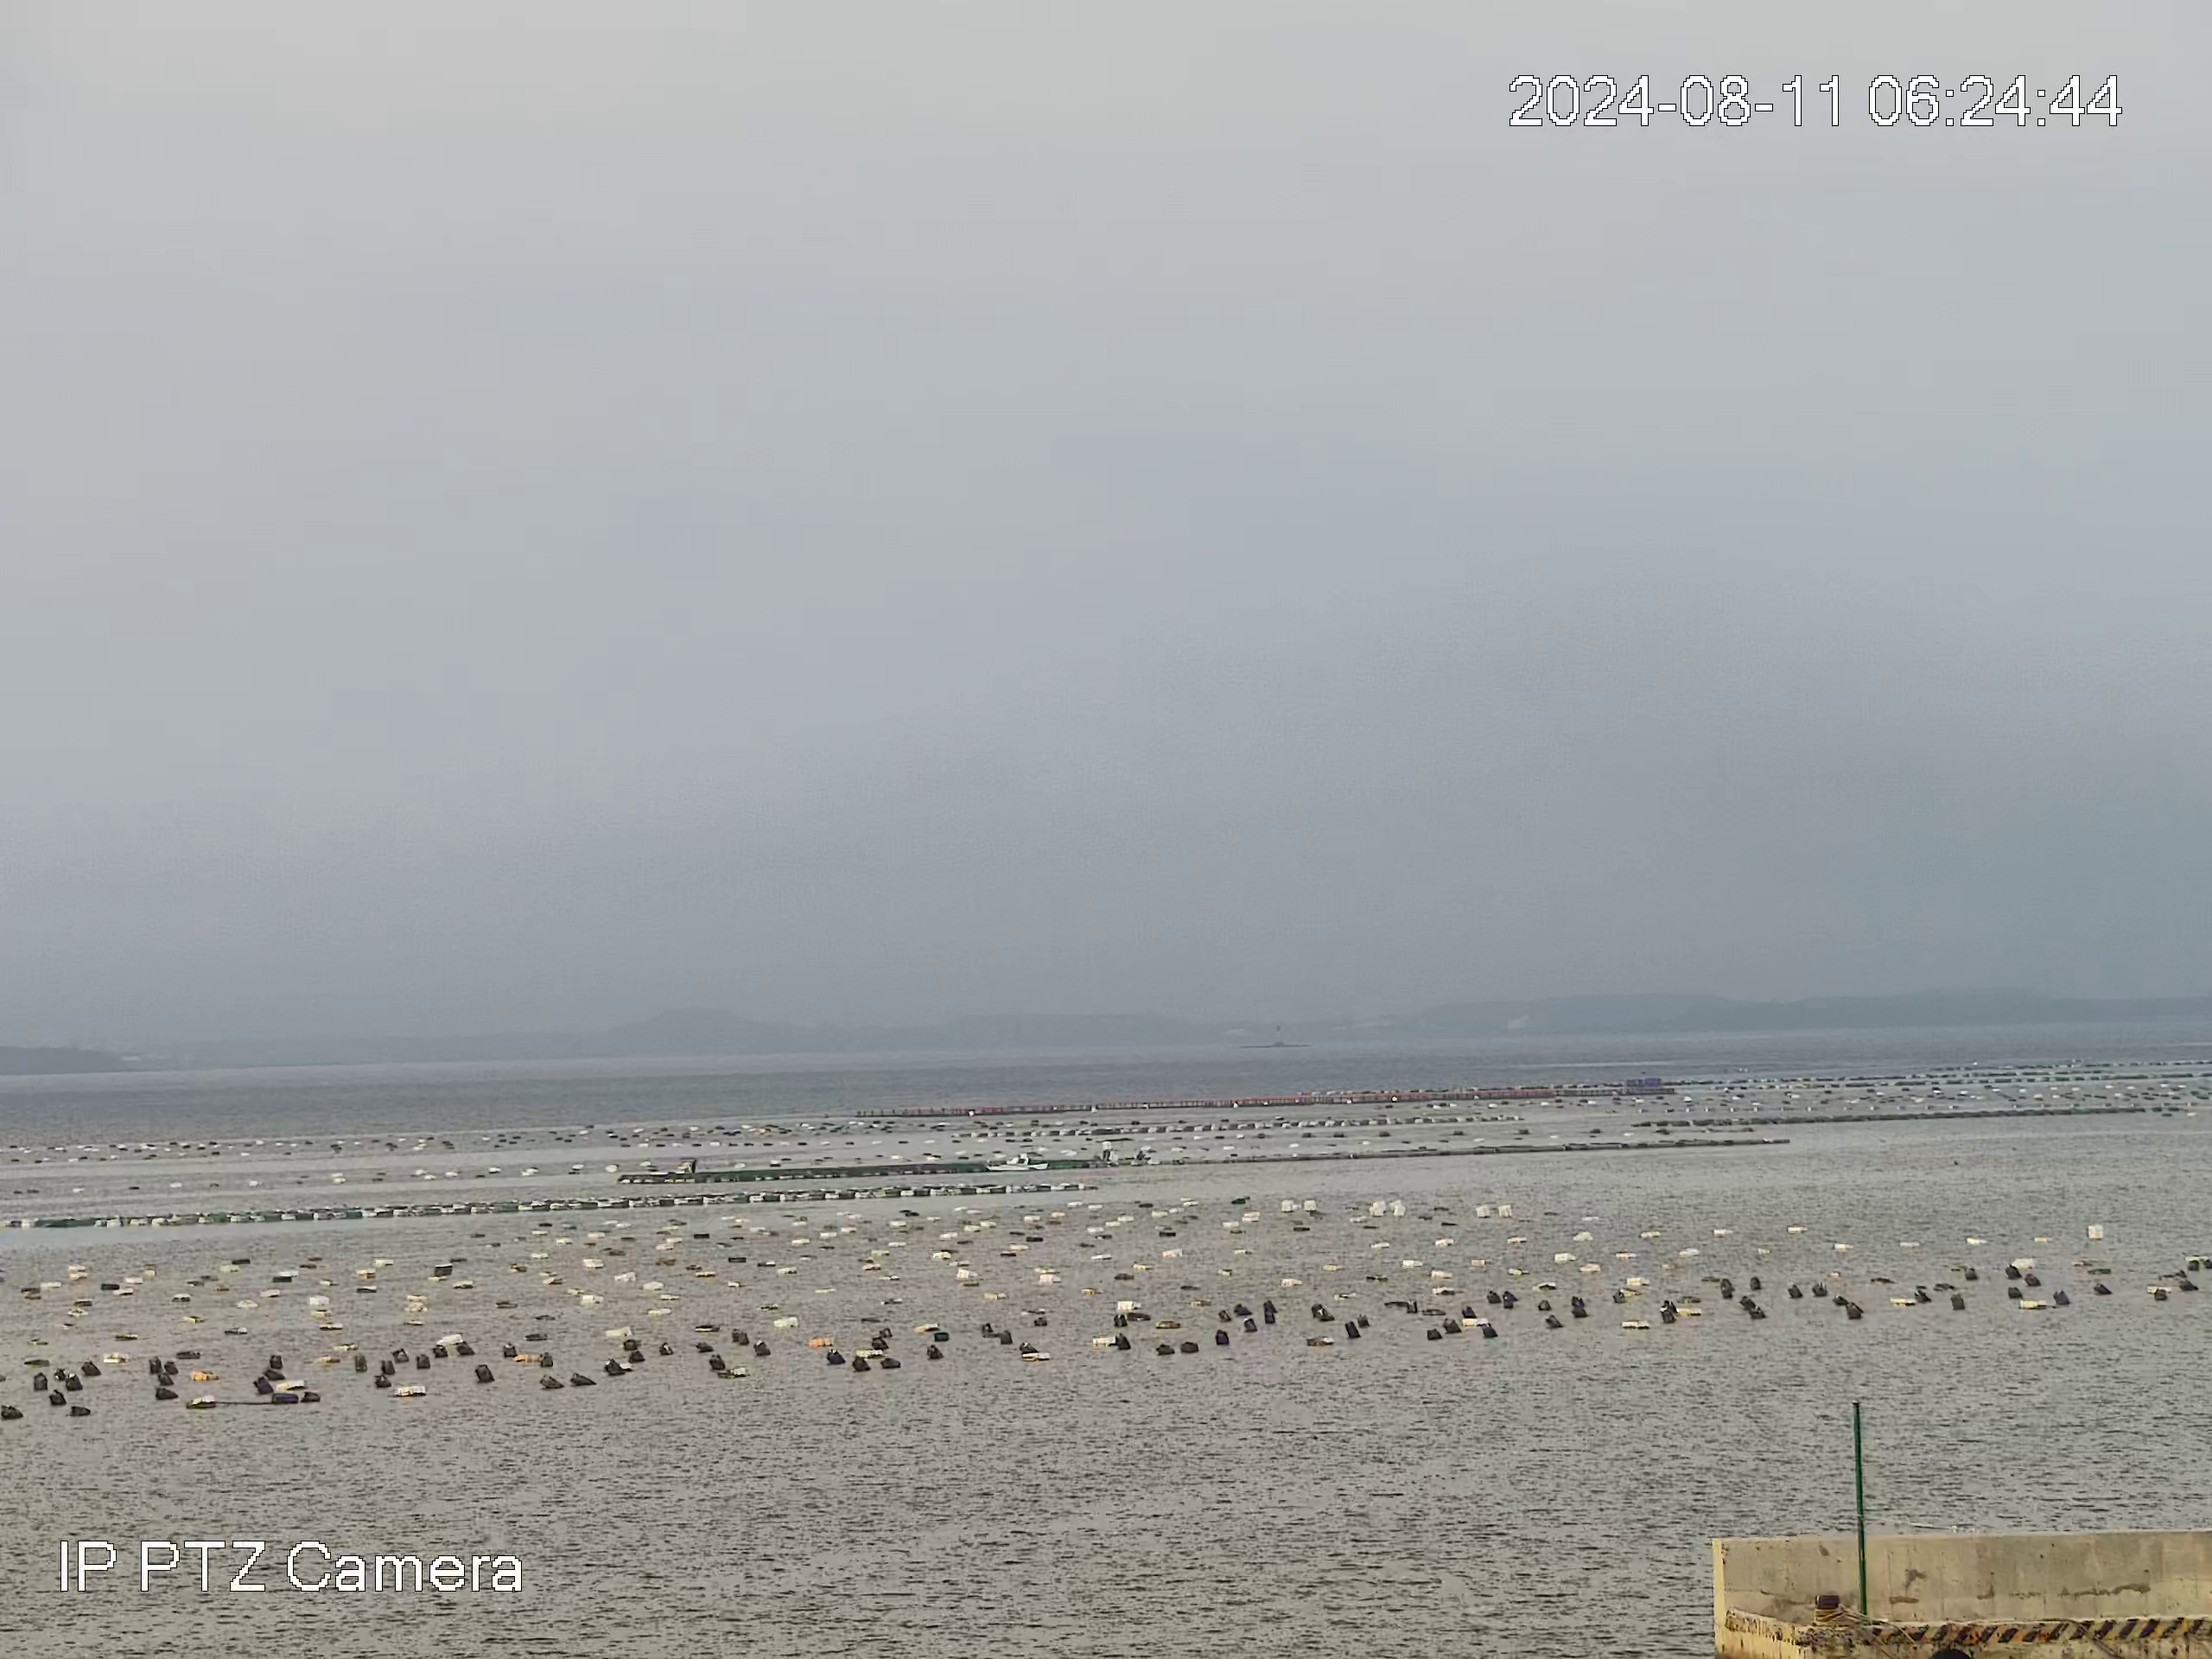boat: (982, 1152, 1050, 1173)
